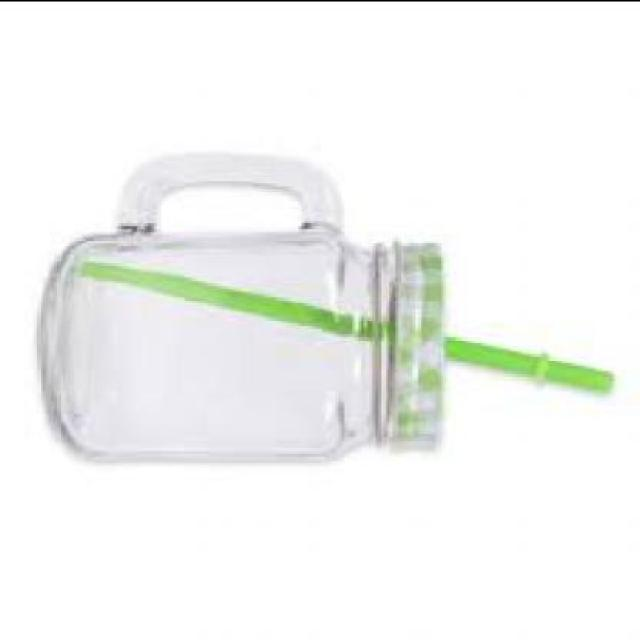GLASS: (43, 156, 446, 470)
METAL: (394, 248, 444, 455)
